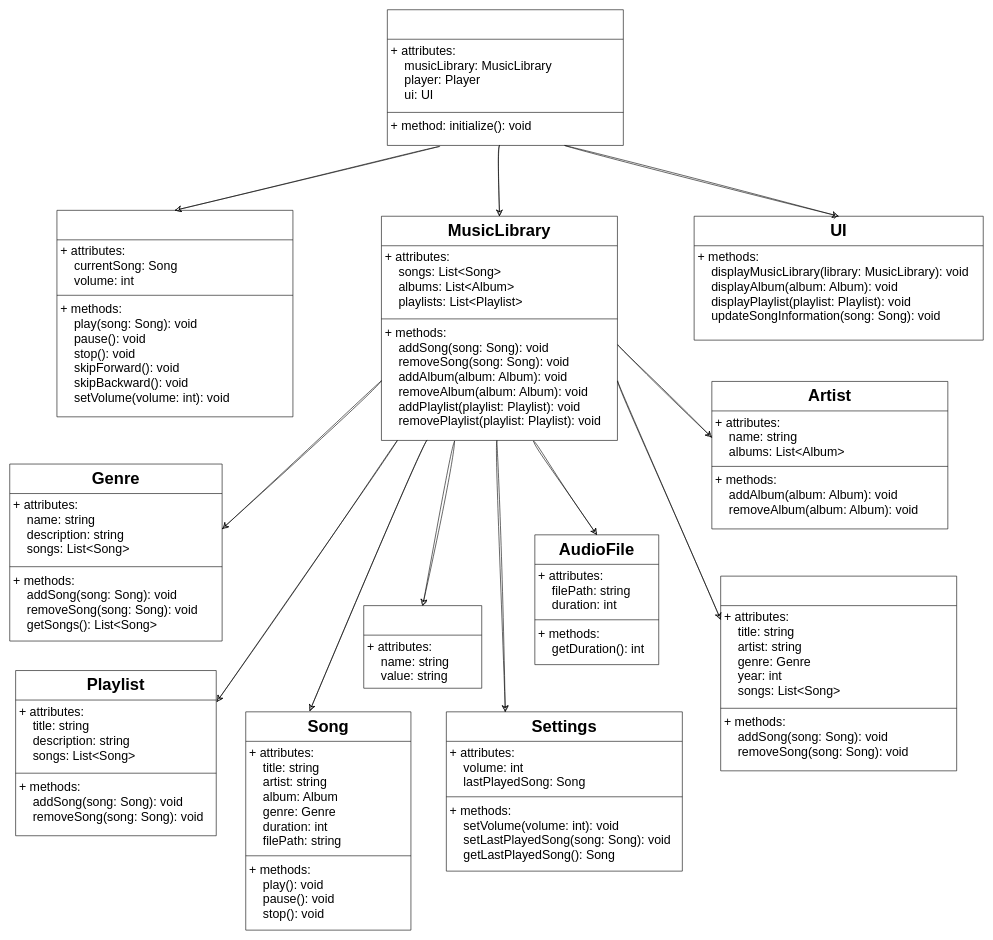
The diagram is 993 pixels wide and 940 high, and some of its shapes have lost their labels. Here are the shapes that lost their labels. From the top down, the box of each, then its label:
(387, 9, 623, 145): Melodify
(56, 210, 293, 417): Player
(363, 605, 482, 688): Tag
(720, 576, 957, 771): Album
